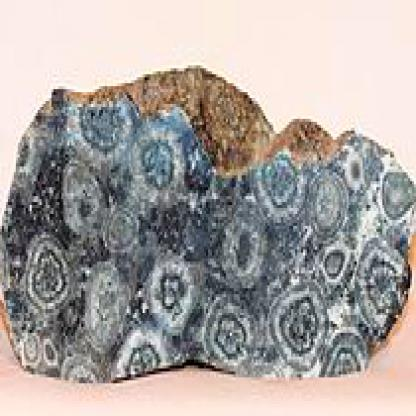Igneous_Diorite: (2, 50, 415, 387)
